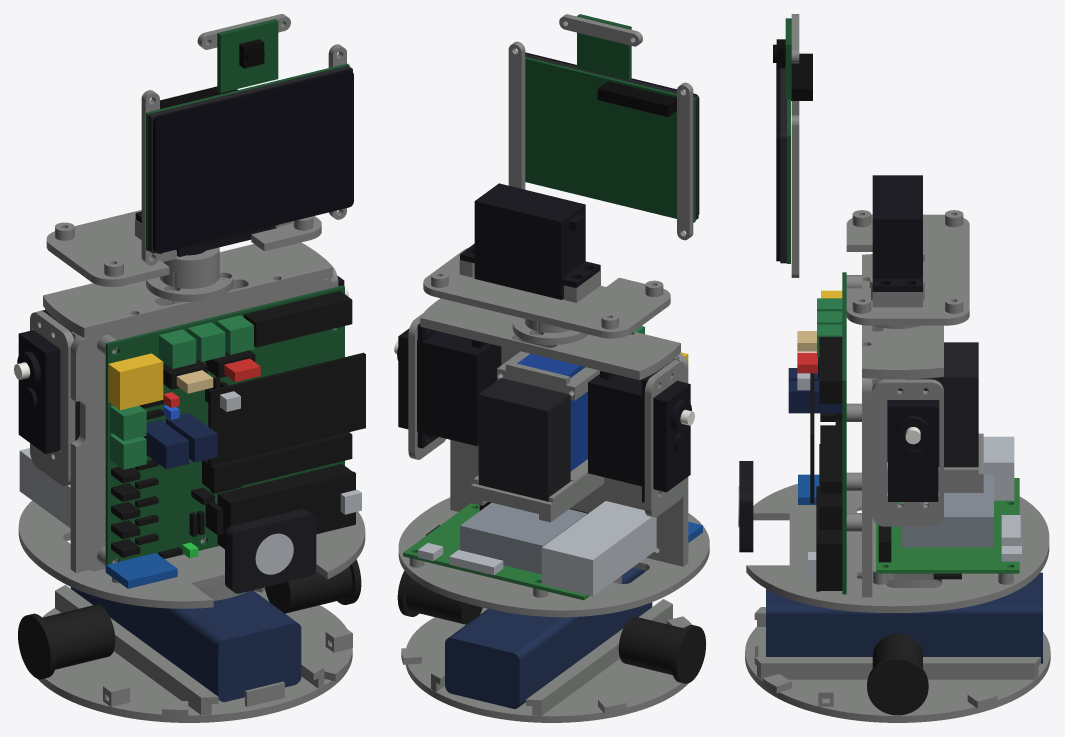
The model's file is wiring-interior.glb.
The picture shows the model from 3 angles, left to right: view 1: azimuth 30°, elevation 25°; view 2: azimuth 150°, elevation 25°; view 3: azimuth 270°, elevation 25°; orthographic projection. The views are drawn at different scales.
Visible parts, largest first — view 1: lcd_touch_panel, B2_Pedestal_Floor, K3_Core_Shoulders, pcb_board, battery_3s_2200, respeaker_hat, K2_Core_Spine, K1_Core_Deck_Fixed, H5_Head_Base, switch_main, speaker_2w, servo_arm_L_case (+28 smaller); view 2: lcd_pcb, B2_Pedestal_Floor, battery_3s_2200, K3_Core_Shoulders, servo_head_case, K1_Core_Deck_Fixed, reg_5v1_usbc, servo_arm_L_case, H5_Head_Base, servo_arm_R_case, pi5_usb_eth, H4_Display_Bars (+12 smaller); view 3: B2_Pedestal_Floor, battery_3s_2200, K1_Core_Deck_Fixed, K3_Core_Shoulders, H5_Head_Base, servo_head_case, servo_arm_R_case, reg_5v1_usbc, pi5_board, switch_servos, pi5_cooler, K2_Core_Spine (+19 smaller).
Part boxes in pixels (bbox=[...]): lcd_touch_panel: bbox=[153, 69, 353, 253]; B2_Pedestal_Floor: bbox=[38, 585, 352, 722]; K3_Core_Shoulders: bbox=[30, 242, 338, 486]; pcb_board: bbox=[105, 285, 344, 571]; battery_3s_2200: bbox=[70, 587, 301, 702]; respeaker_hat: bbox=[208, 352, 365, 465]; K2_Core_Spine: bbox=[70, 279, 336, 572]; K1_Core_Deck_Fixed: bbox=[18, 500, 365, 608]; H5_Head_Base: bbox=[46, 210, 321, 286]; switch_main: bbox=[18, 604, 115, 679]; speaker_2w: bbox=[225, 509, 316, 593]; servo_arm_L_case: bbox=[17, 309, 79, 454]; lcd_pcb: bbox=[525, 57, 695, 222]; B2_Pedestal_Floor: bbox=[401, 599, 692, 722]; battery_3s_2200: bbox=[445, 567, 652, 708]; K3_Core_Shoulders: bbox=[408, 298, 685, 517]; servo_head_case: bbox=[460, 183, 600, 299]; K1_Core_Deck_Fixed: bbox=[398, 497, 709, 617]; reg_5v1_usbc: bbox=[478, 378, 570, 501]; servo_arm_L_case: bbox=[588, 363, 691, 502]; H5_Head_Base: bbox=[423, 248, 670, 338]; servo_arm_R_case: bbox=[397, 323, 501, 448]; pi5_usb_eth: bbox=[541, 501, 656, 596]; H4_Display_Bars: bbox=[508, 14, 693, 240]; B2_Pedestal_Floor: bbox=[745, 607, 1050, 722]; battery_3s_2200: bbox=[766, 572, 1042, 663]; K1_Core_Deck_Fixed: bbox=[746, 483, 1049, 612]; K3_Core_Shoulders: bbox=[862, 254, 943, 526]; H5_Head_Base: bbox=[846, 210, 969, 325]; servo_head_case: bbox=[872, 175, 922, 291]; servo_arm_R_case: bbox=[888, 377, 938, 504]; reg_5v1_usbc: bbox=[938, 342, 978, 467]; pi5_board: bbox=[876, 478, 1019, 573]; switch_servos: bbox=[867, 634, 928, 715]; pi5_cooler: bbox=[901, 475, 993, 547]; K2_Core_Spine: bbox=[846, 275, 872, 597].
Bounding box in the file's own units: 138 × 270 × 122.
